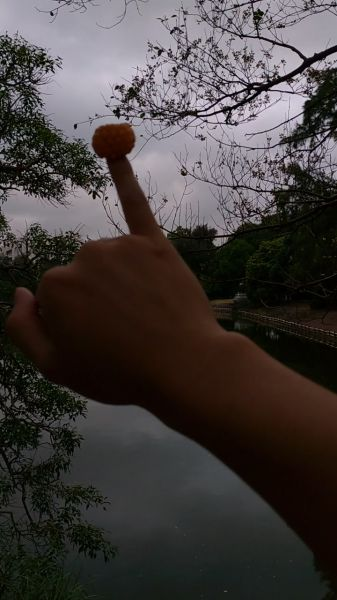eggs: (92, 124, 134, 156)
